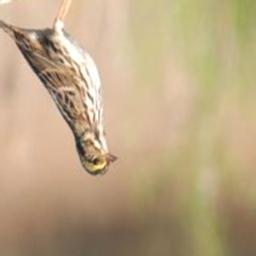Sparrow: (0, 0, 117, 177)
